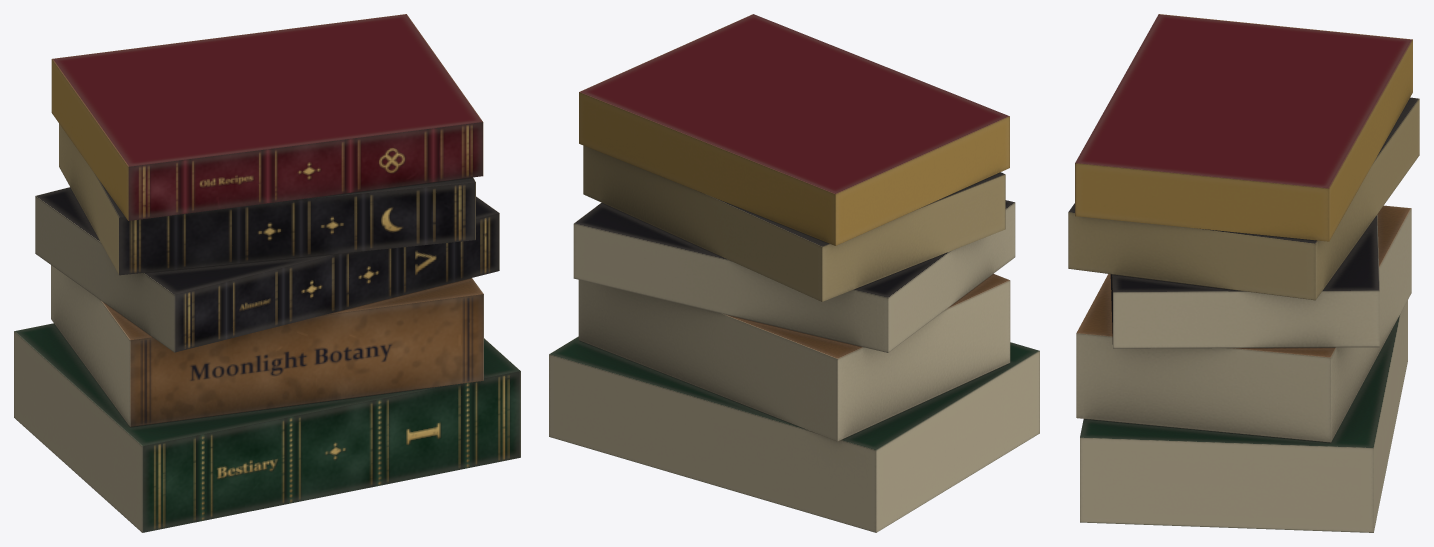
File: DormBookStack.fbx
3 views of the same model, side by side, from view 1: azimuth 30°, elevation 25°; view 2: azimuth 150°, elevation 25°; view 3: azimuth 270°, elevation 25° (orthographic). The views are drawn at different scales.
Parts seen in each view (by area): view 1: DormBookStack; view 2: DormBookStack; view 3: DormBookStack.
Part boxes in pixels (bbox=[...]): DormBookStack: bbox=[14, 14, 520, 532]; DormBookStack: bbox=[549, 14, 1039, 532]; DormBookStack: bbox=[1068, 14, 1419, 532].
Bounding box in the file's own units: 111 × 96.2 × 90.06.
